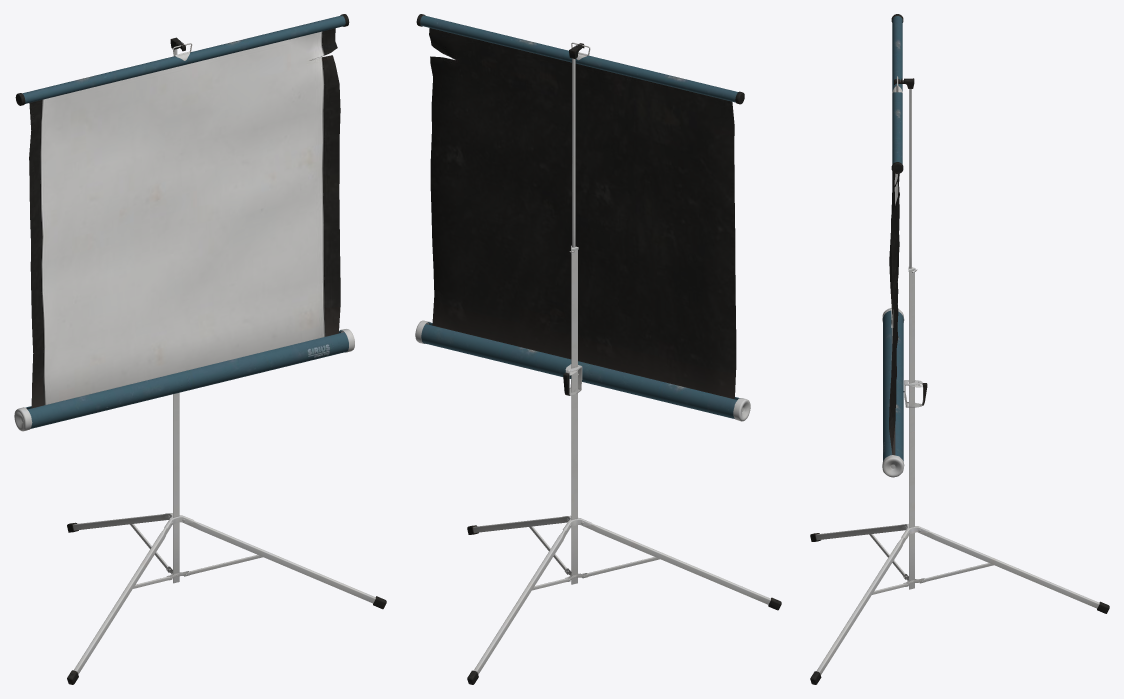
The model's file is projector_screen_1k.glb.
3 views of the same model, side by side, from view 1: azimuth 30°, elevation 25°; view 2: azimuth 150°, elevation 25°; view 3: azimuth 270°, elevation 25° (orthographic). The views are drawn at different scales.
Visible parts, largest first — view 1: projector_screen, projector_screen_frame; view 2: projector_screen, projector_screen_frame; view 3: projector_screen, projector_screen_frame.
Boxes of the visible parts, x1,y1,x2,y2 form: projector_screen: (14,14,354,431); projector_screen_frame: (67,392,386,684); projector_screen: (415,14,750,421); projector_screen_frame: (467,245,781,684); projector_screen: (882,14,927,477); projector_screen_frame: (810,267,1109,684).
Bounding box in the file's own units: 1.09 × 1.8 × 0.9158.
Materials: 2 (2 with a texture image).
